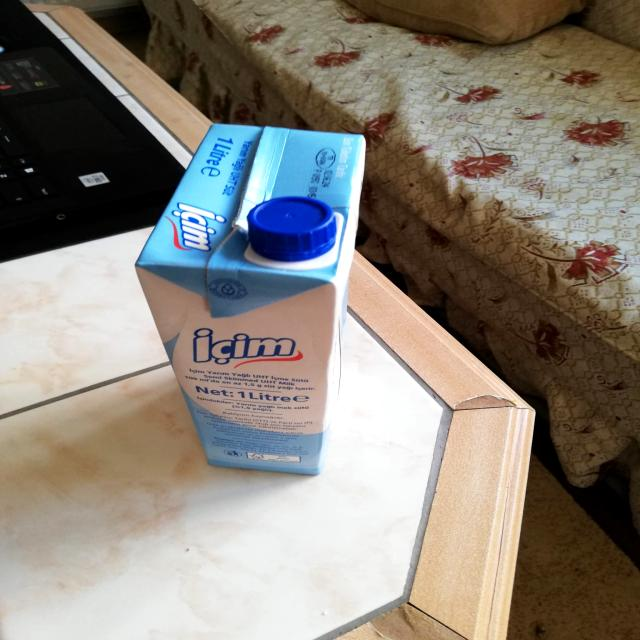milk: (142, 117, 368, 473)
